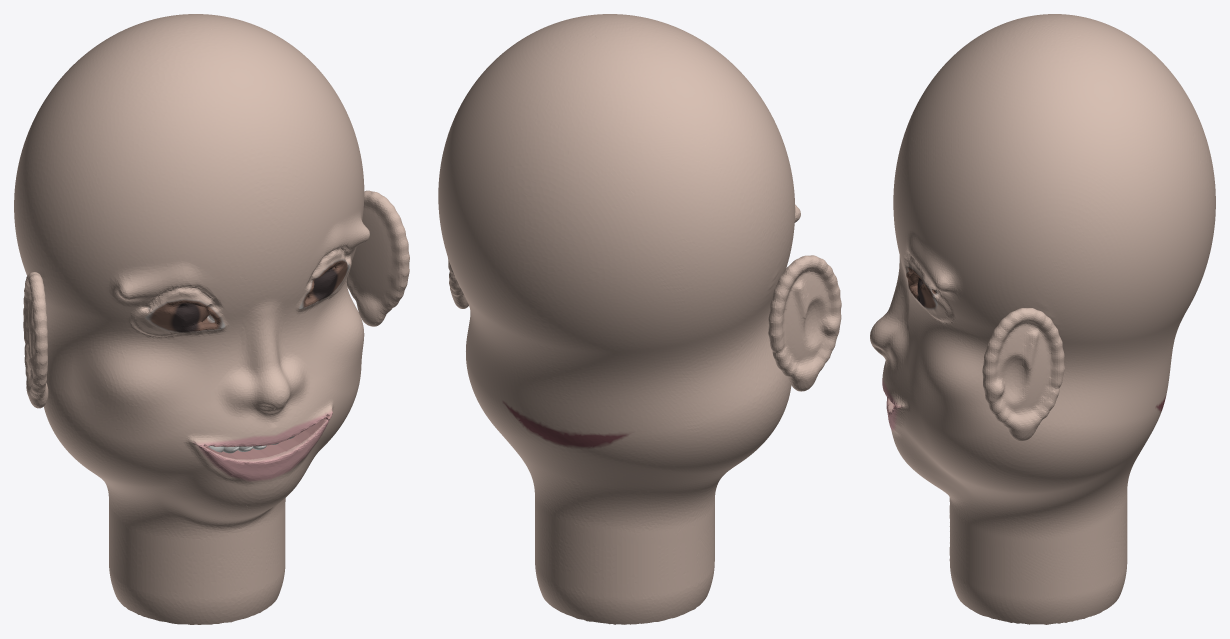
The model's file is karma_face_stage1_F_smile_EXPERIMENT.glb.
3 renders of one model, left to right at view 1: azimuth 30°, elevation 25°; view 2: azimuth 150°, elevation 25°; view 3: azimuth 270°, elevation 25°, orthographic.
Visible parts, largest first — view 1: head; view 2: head; view 3: head.
Part boxes in pixels (<box>): head: <box>14,14,409,624</box>; head: <box>438,14,841,624</box>; head: <box>870,14,1215,624</box>.
Bounding box in the file's own units: 2.7 × 3.83 × 2.14.
